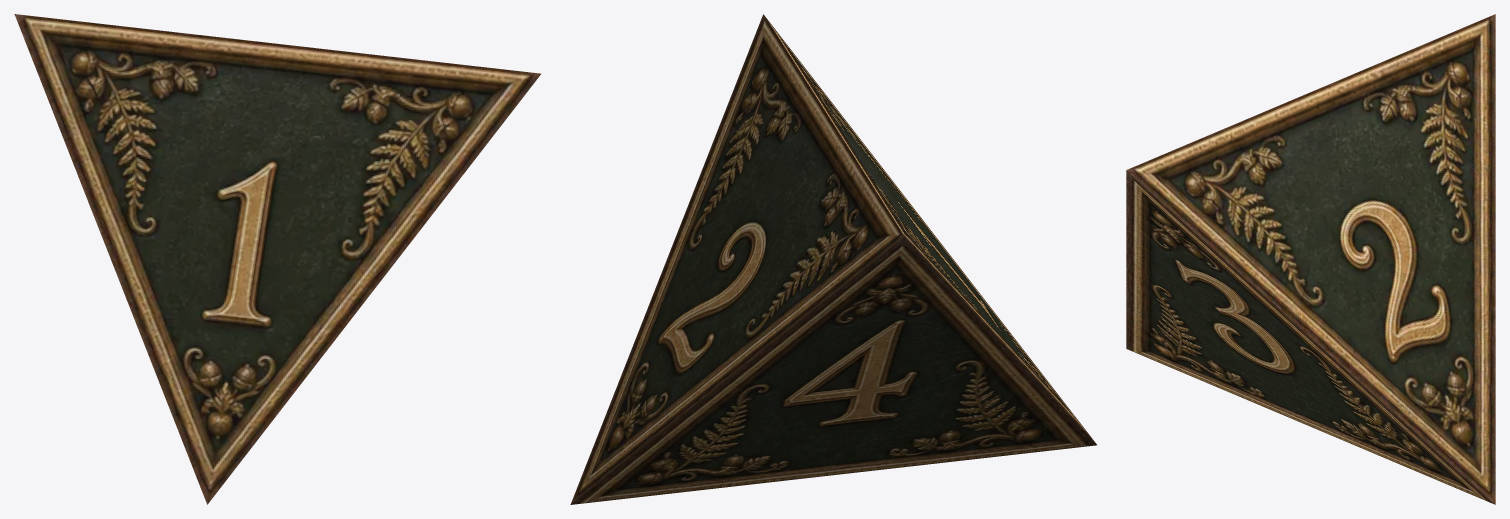
3 renders of one model, left to right at view 1: azimuth 30°, elevation 25°; view 2: azimuth 150°, elevation 25°; view 3: azimuth 270°, elevation 25°, orthographic. The views are drawn at different scales.
Visible parts, largest first — view 1: Themed_D4; view 2: Themed_D4; view 3: Themed_D4.
Part boxes in pixels (box(x1,y1,x2,y2)): Themed_D4: box(14, 14, 540, 504); Themed_D4: box(570, 14, 1096, 504); Themed_D4: box(1126, 14, 1495, 504).
Size of the model in its own units: 0.8314 by 0.8314 by 0.8314.
Materials: 1 (1 with a texture image).
